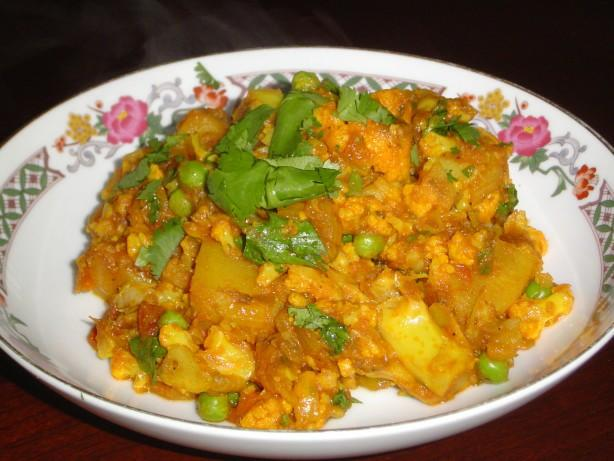AlooGobi: (75, 72, 575, 430)
